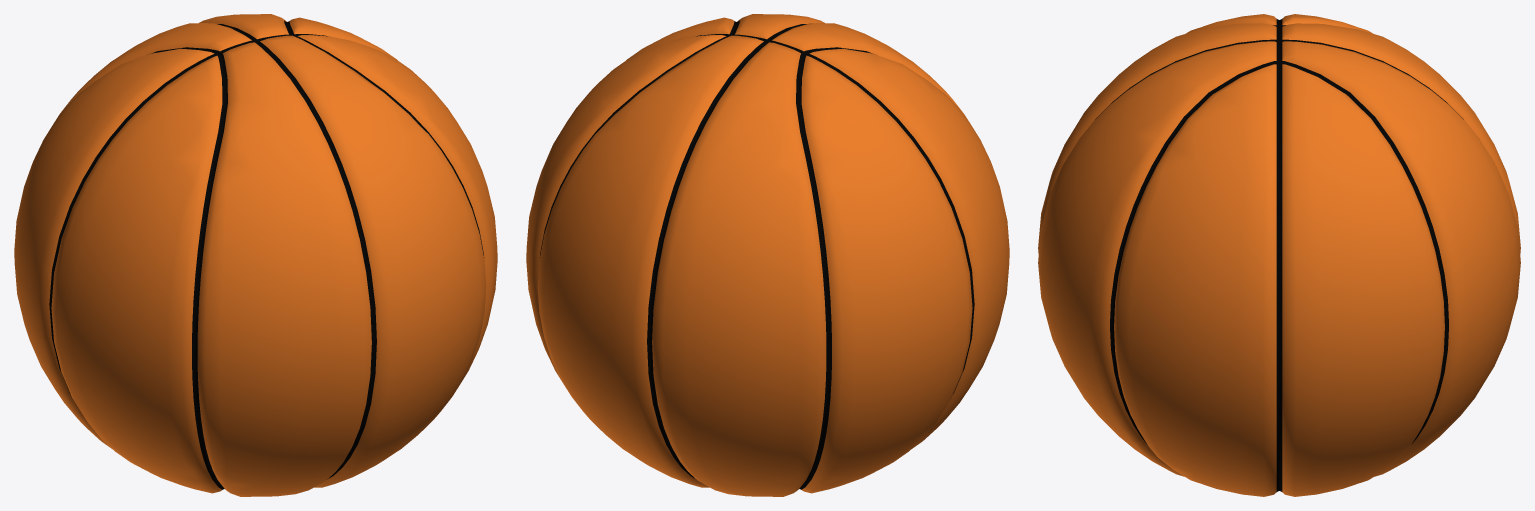
The model's file is bascketball.fbx.
3 views of the same model, side by side, from view 1: azimuth 30°, elevation 25°; view 2: azimuth 150°, elevation 25°; view 3: azimuth 270°, elevation 25° (orthographic).
Parts seen in each view (by area): view 1: Bascketball; view 2: Bascketball; view 3: Bascketball.
Boxes of the visible parts, left/top/right/bottom form: Bascketball: left=14, top=14, right=497, bottom=496; Bascketball: left=526, top=14, right=1009, bottom=496; Bascketball: left=1038, top=14, right=1520, bottom=496.
Bounding box in the file's own units: 254 × 254 × 254.
